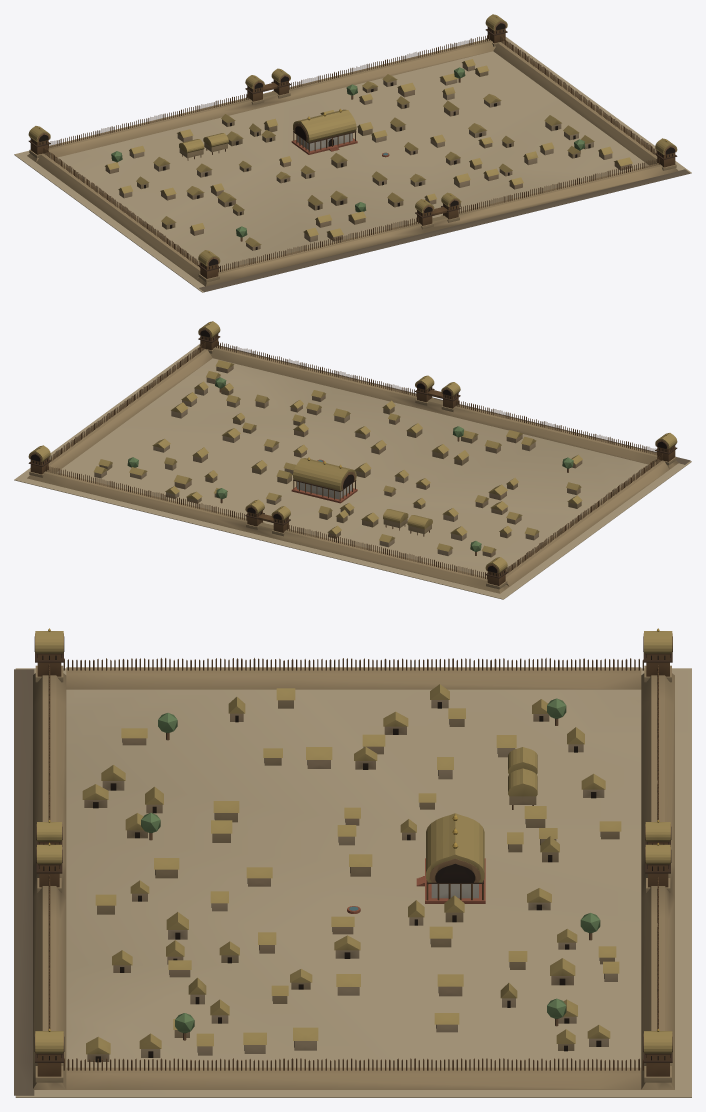
Rendered from pataligama.glb.
3 views of the same model, one above another, from view 1: azimuth 30°, elevation 25°; view 2: azimuth 150°, elevation 25°; view 3: azimuth 270°, elevation 25° (orthographic). The views are drawn at different scales.
Visible parts, largest first — view 1: p0_rampart, p3_huts, p1_stockade, p2_town; view 2: p0_rampart, p3_huts, p1_stockade, p2_town; view 3: p0_rampart, p3_huts, p1_stockade, p2_town.
Boxes of the visible parts, left/top/right/bottom form: p0_rampart: left=14, top=37, right=691, bottom=292; p3_huts: left=105, top=59, right=632, bottom=250; p1_stockade: left=28, top=14, right=677, bottom=282; p2_town: left=179, top=108, right=389, bottom=160; p0_rampart: left=14, top=344, right=691, bottom=599; p3_huts: left=93, top=360, right=582, bottom=557; p1_stockade: left=28, top=321, right=677, bottom=589; p2_town: left=291, top=457, right=432, bottom=536; p0_rampart: left=14, top=667, right=691, bottom=1097; p3_huts: left=82, top=684, right=621, bottom=1062; p1_stockade: left=34, top=628, right=672, bottom=1082; p2_town: left=347, top=747, right=537, bottom=913.
Size of the model in its own units: 300 by 18.33 by 200.
